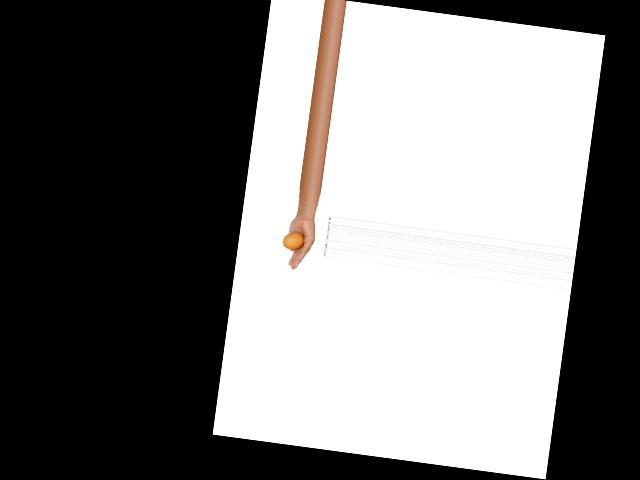egg: (282, 230, 305, 251)
